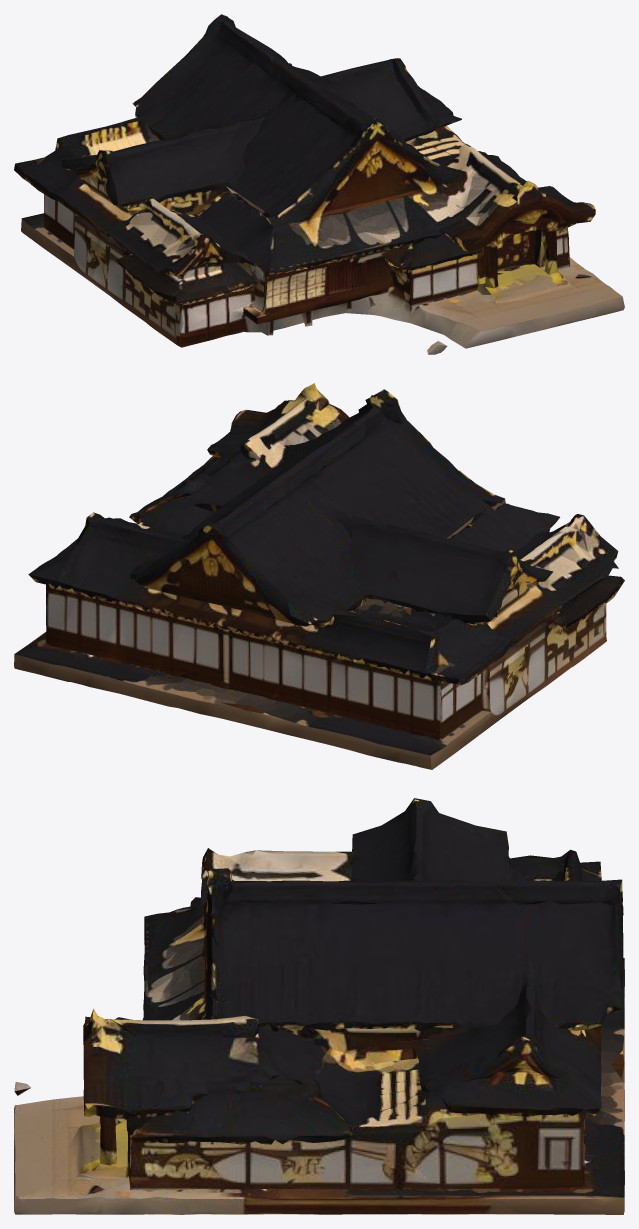
The model's file is nijo-castle.glb.
3 views of the same model, one above another, from view 1: azimuth 30°, elevation 25°; view 2: azimuth 150°, elevation 25°; view 3: azimuth 270°, elevation 25° (orthographic). The views are drawn at different scales.
Parts seen in each view (by area): view 1: logan-textured.obj; view 2: logan-textured.obj; view 3: logan-textured.obj.
Part boxes in pixels (x1=…): logan-textured.obj: x1=14, y1=14, x2=624, y2=354; logan-textured.obj: x1=14, y1=383, x2=624, y2=769; logan-textured.obj: x1=14, y1=798, x2=624, y2=1214.
Size of the model in its own units: 0.9736 by 0.4248 by 1.
1 material, 1 textured.
